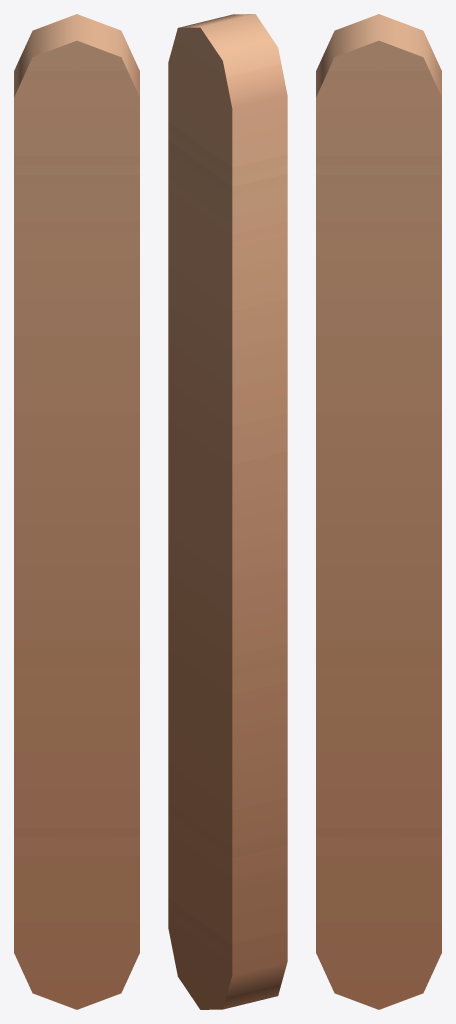
Rendered from popsicle-stick.glb.
3 views of the same model, side by side, from view 1: azimuth 90°, elevation 25°; view 2: azimuth 210°, elevation 25°; view 3: azimuth 270°, elevation 25° (orthographic).
Parts seen in each view (by area): view 1: popsicle-stick; view 2: popsicle-stick; view 3: popsicle-stick.
Boxes of the visible parts, x1=… form: popsicle-stick: x1=14, y1=14, x2=139, y2=1009; popsicle-stick: x1=168, y1=14, x2=287, y2=1009; popsicle-stick: x1=316, y1=14, x2=441, y2=1009.
Size of the model in its own units: 0.02 by 0.34 by 0.04.
1 material, 1 textured.
